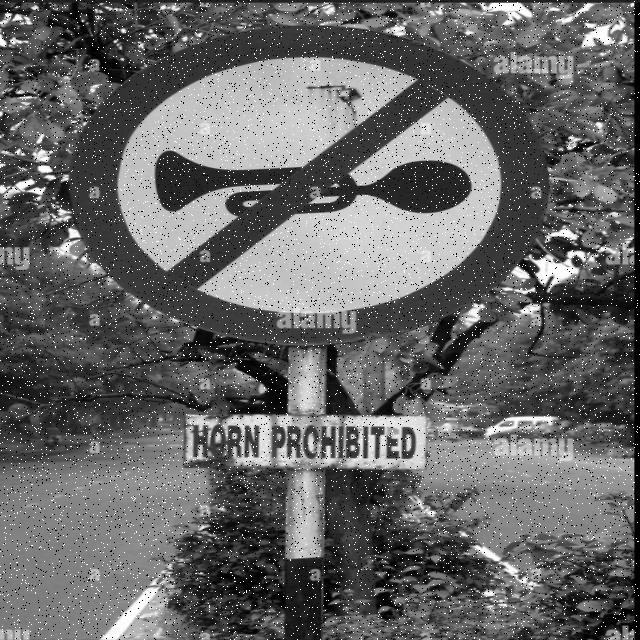No_Horn: (77, 34, 544, 350)
